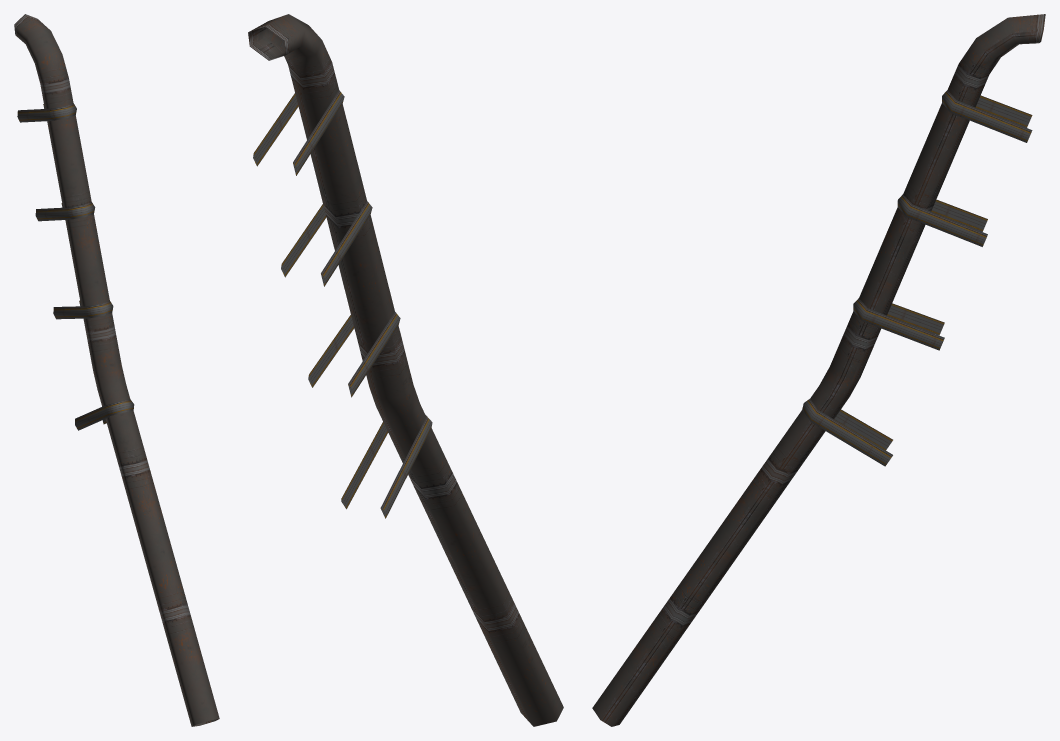
File: Wall1_Pipe1_L2.fbx
3 renders of one model, left to right at view 1: azimuth 30°, elevation 25°; view 2: azimuth 150°, elevation 25°; view 3: azimuth 270°, elevation 25°, orthographic. The views are drawn at different scales.
Visible parts, largest first — view 1: polySurface922; view 2: polySurface922; view 3: polySurface922.
Boxes of the visible parts, <box> form: polySurface922: <box>14,14,219,726</box>; polySurface922: <box>248,14,563,726</box>; polySurface922: <box>592,14,1045,726</box>.
Size of the model in its own units: 172 by 3226 by 1865.
